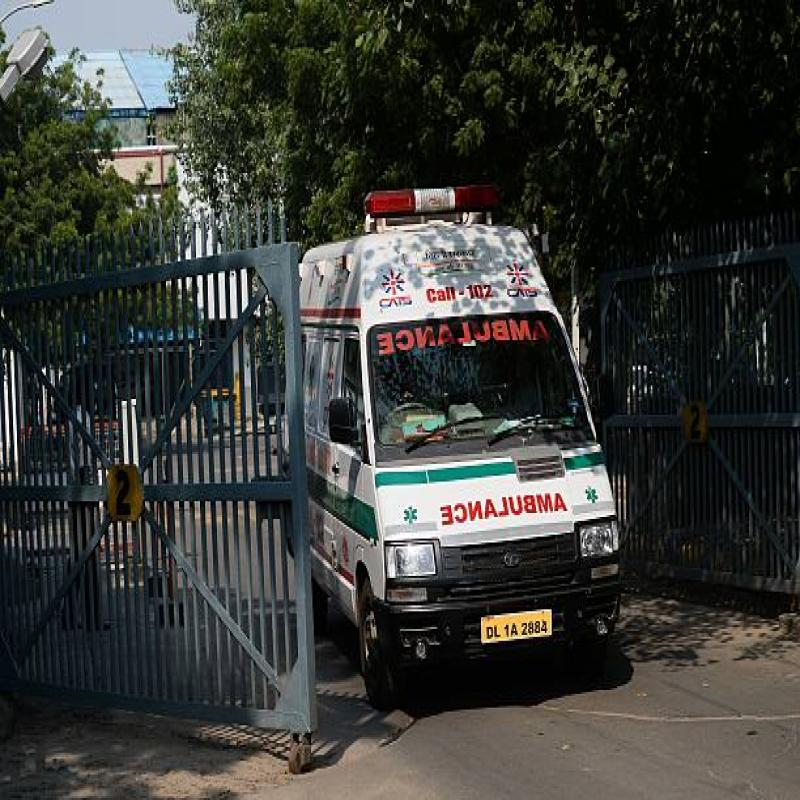AmbulanceSiren: (352, 169, 508, 227)
ambulance: (308, 207, 614, 686)
